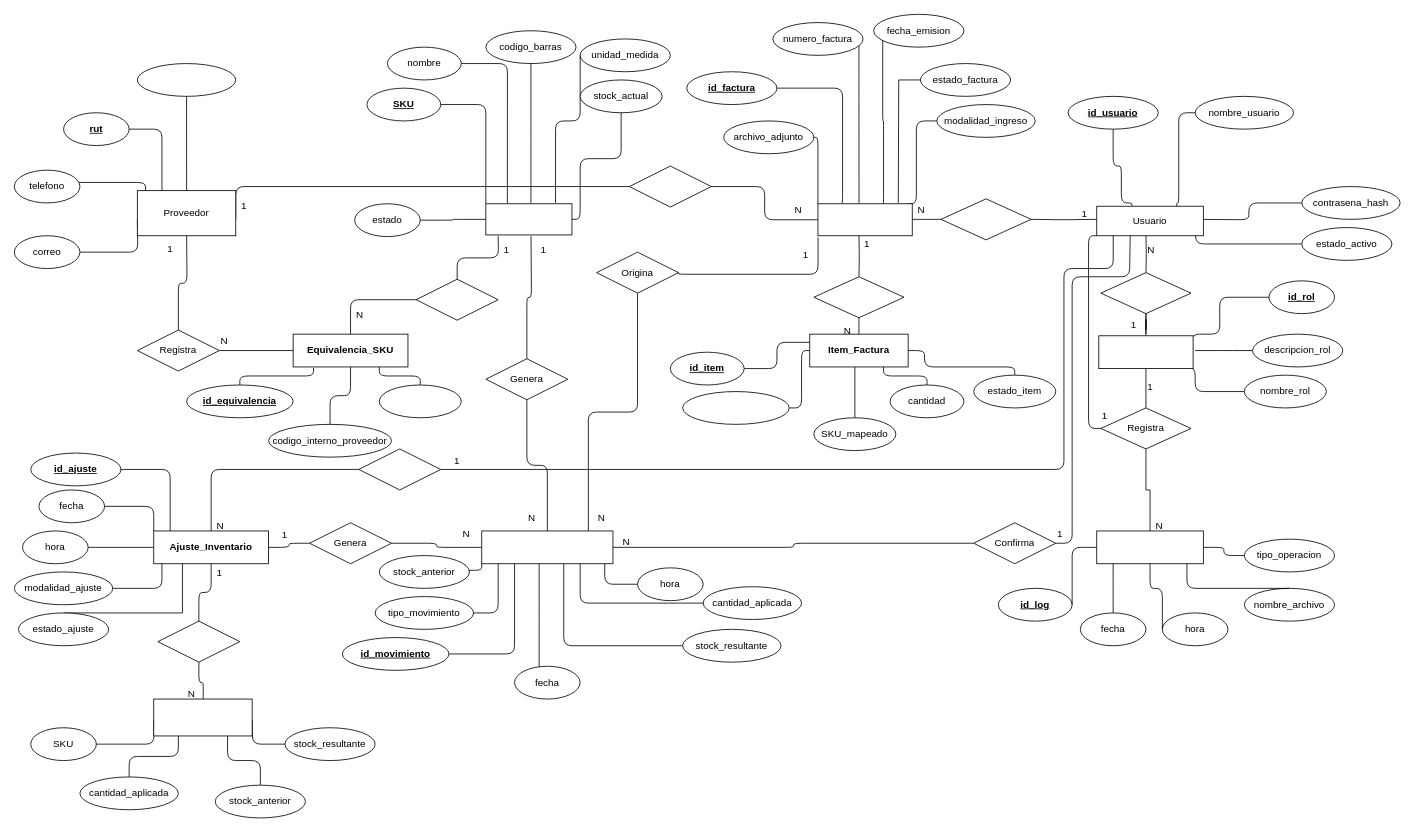
Image size: 1415x832. Some labels were removed from this diagram. Each missing label, with the centre of its shape:
"Aprueba" belongs at point (399, 469).
"codigo_interno_prov" belongs at point (735, 407).
"Contiene" belongs at point (858, 297).
"Emite" belongs at point (670, 186).
"Factura" belongs at point (864, 219).
"Incluye" belongs at point (198, 641).
"Item_Ajuste" belongs at point (202, 717).
"Log_Archivo" belongs at point (1149, 547).
"Movimiento_Inventario" belongs at point (547, 547).
"nombre_proveedor" belongs at point (186, 79).
"Producto" belongs at point (528, 219).
"Responsable" belongs at point (985, 219).
"Rol" belongs at point (1145, 352).
"Se asocia" belongs at point (456, 299).
"SKU_sistema" belongs at point (419, 401).
"Tiene_permiso" belongs at point (1145, 293).
